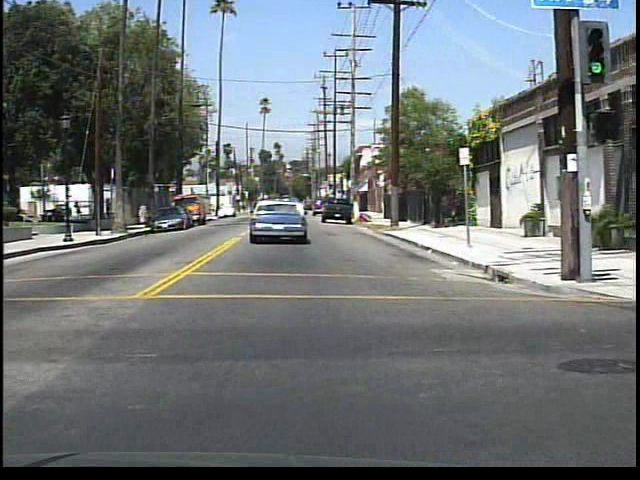person: (139, 201, 152, 228), (102, 195, 115, 221), (73, 198, 84, 222)
